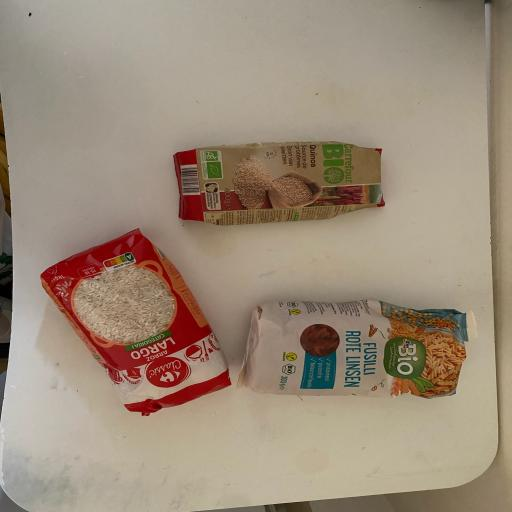quinoa: (166, 137, 394, 229)
rice: (36, 226, 236, 420)
